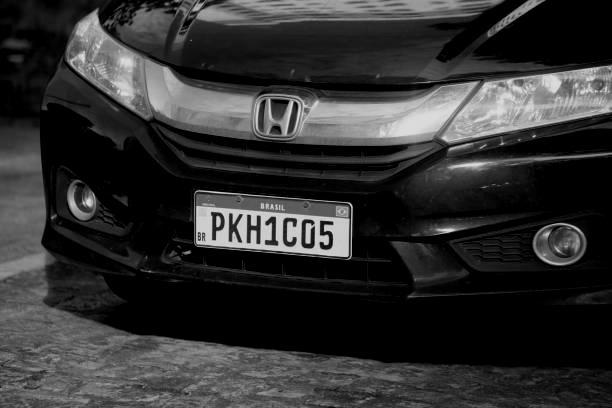placa_mercosul: (195, 190, 351, 258)
